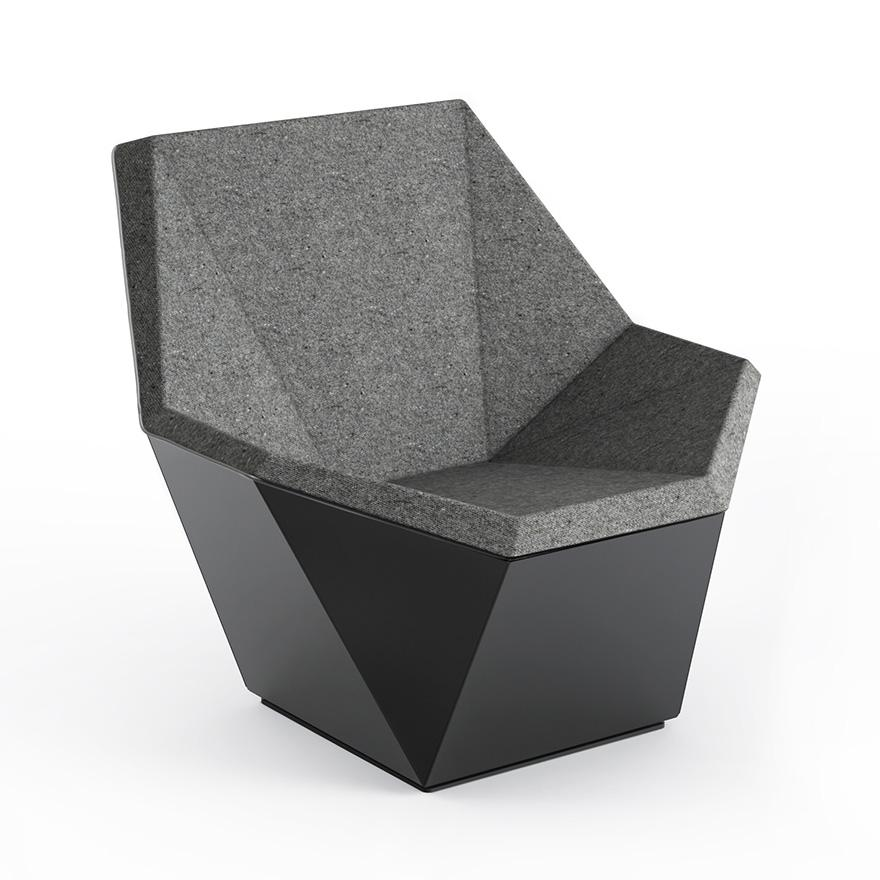chair: (98, 81, 815, 811)
